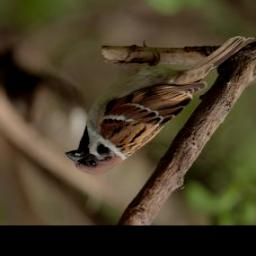Sparrow: (63, 32, 255, 179)
